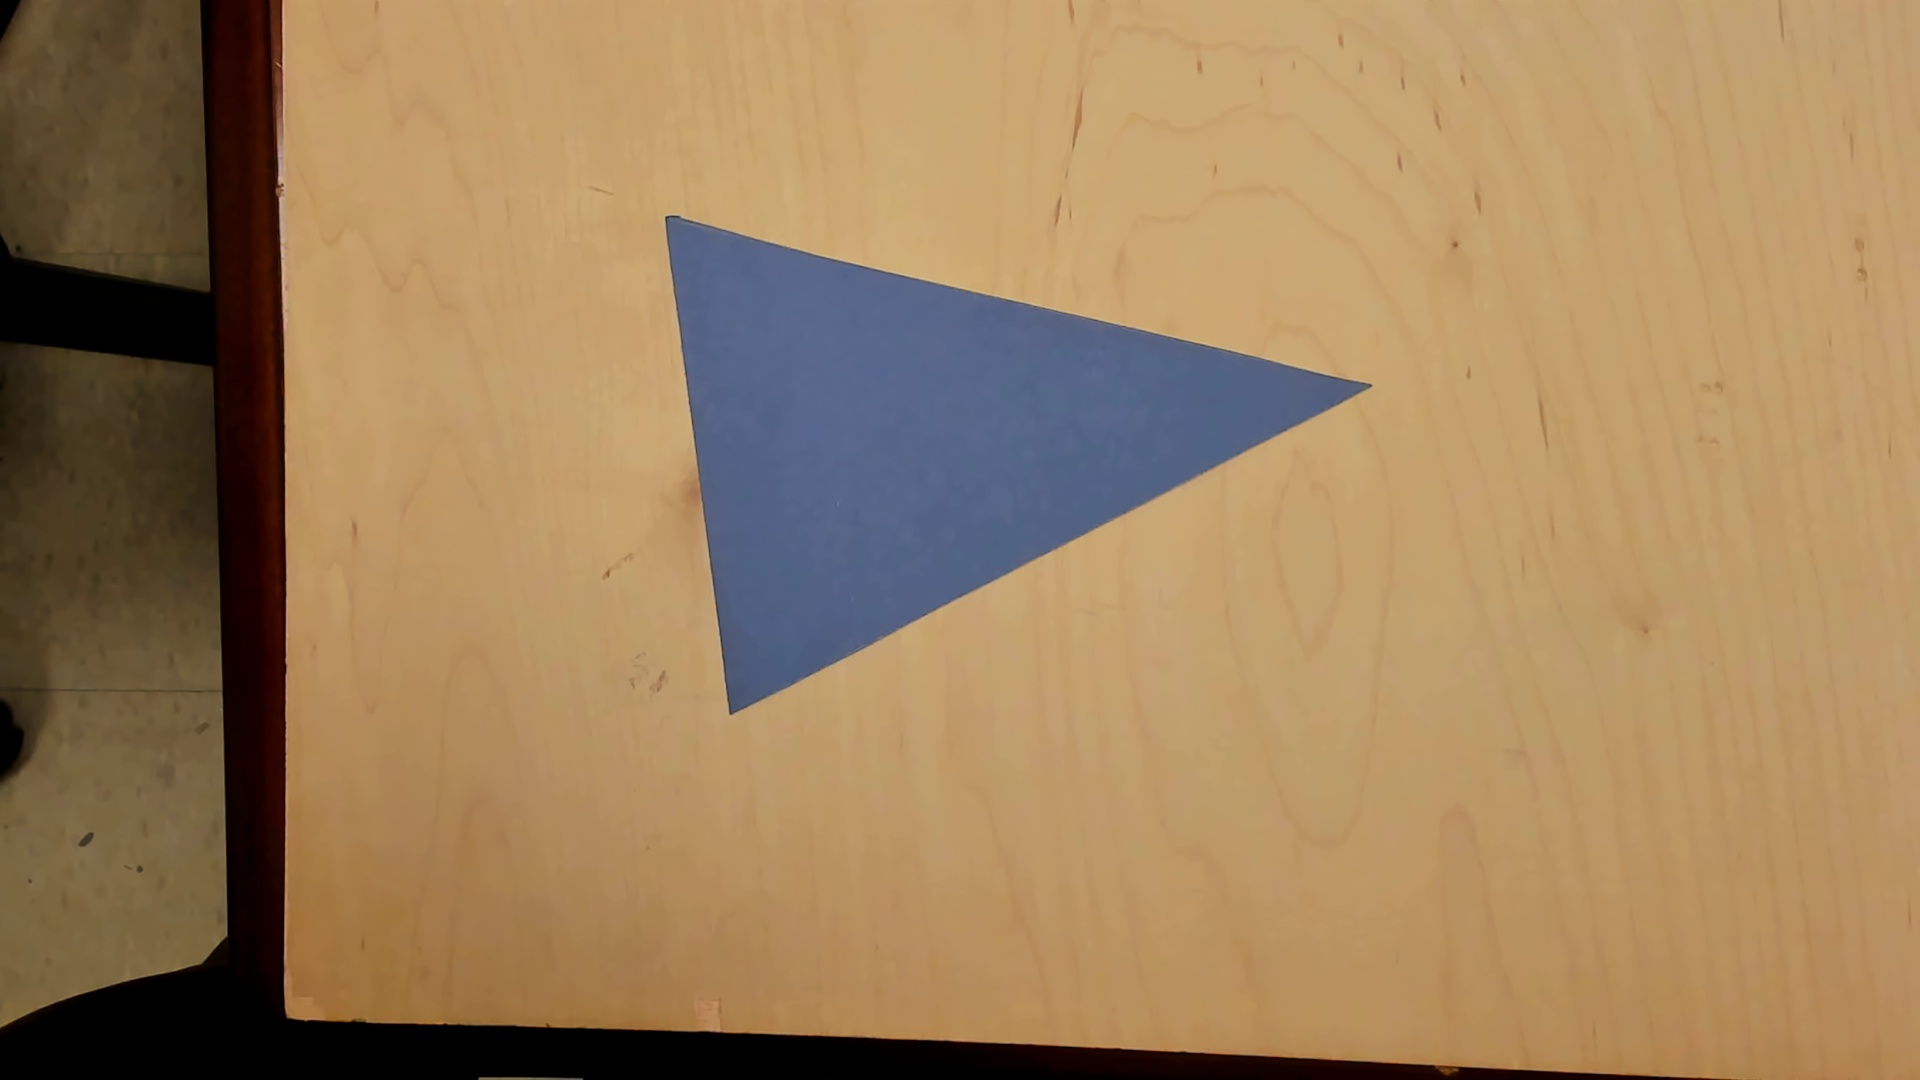BT: (659, 212, 1381, 717)
